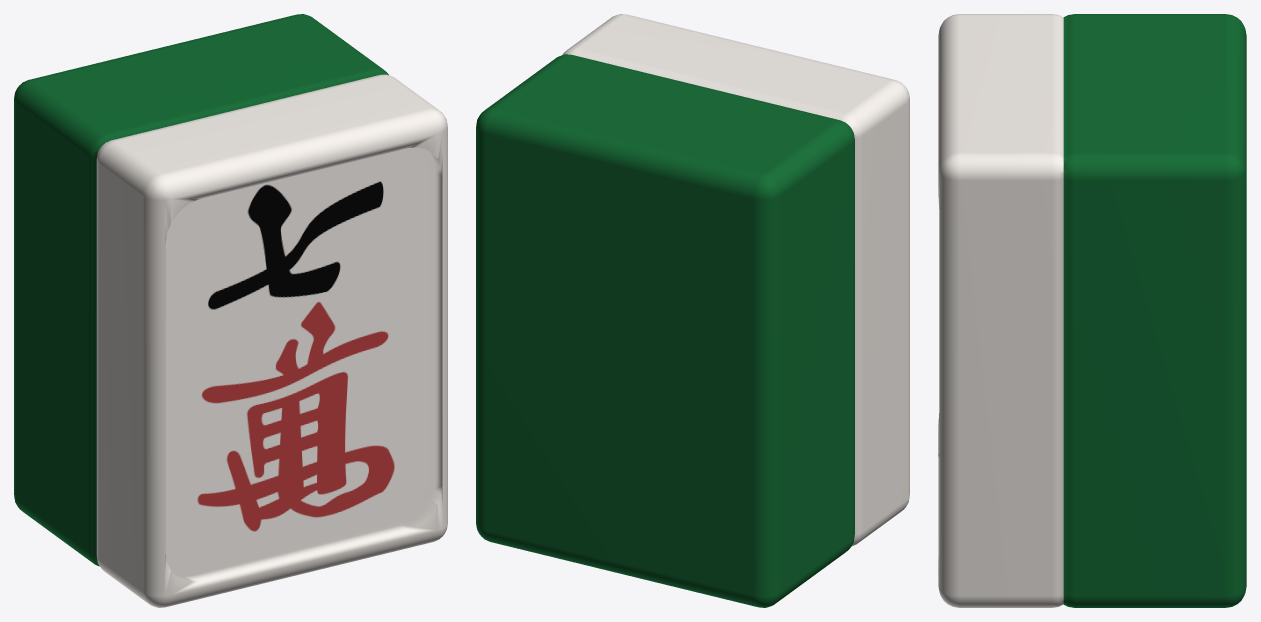
The model's file is man7-fhkjggzb.glb.
3 views of the same model, side by side, from view 1: azimuth 30°, elevation 25°; view 2: azimuth 150°, elevation 25°; view 3: azimuth 270°, elevation 25° (orthographic). The views are drawn at different scales.
Parts seen in each view (by area): view 1: TileBody, FacePanel; view 2: TileBody; view 3: TileBody.
Boxes of the visible parts, bbox=[...] form: TileBody: bbox=[14, 14, 447, 607]; FacePanel: bbox=[165, 148, 428, 569]; TileBody: bbox=[476, 14, 909, 607]; TileBody: bbox=[938, 14, 1246, 607].
Bounding box in the file's own units: 19 × 26 × 16.
Materials: 3 (1 with a texture image).
